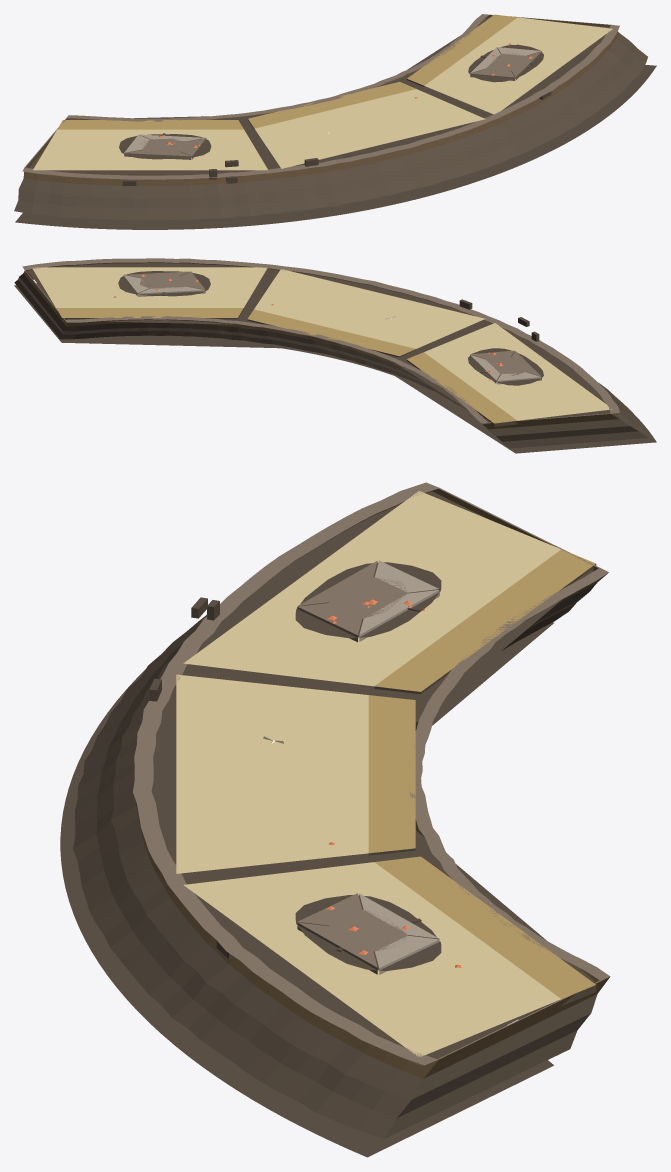
File: AtollArcA.fbx
3 views of the same model, one above another, from view 1: azimuth 30°, elevation 25°; view 2: azimuth 150°, elevation 25°; view 3: azimuth 270°, elevation 25° (orthographic). The views are drawn at different scales.
Visible parts, largest first — view 1: AtollArcA; view 2: AtollArcA; view 3: AtollArcA.
Boxes of the visible parts, x1,y1,x2,y2 form: AtollArcA: [14, 14, 656, 229]; AtollArcA: [14, 258, 656, 453]; AtollArcA: [60, 482, 610, 1157].
Size of the model in its own units: 6720 by 492 by 2493.
